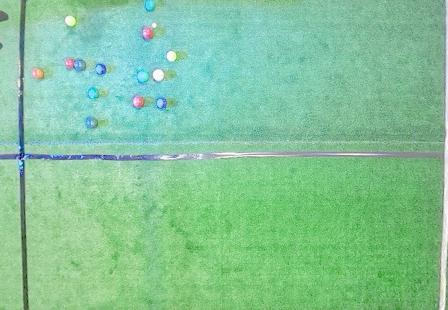blue: (95, 63, 106, 75), (156, 98, 167, 109)
green: (85, 116, 98, 129), (137, 70, 149, 82), (74, 59, 86, 71), (89, 88, 99, 99), (144, 1, 156, 10)
red: (153, 69, 165, 81), (133, 96, 145, 108), (142, 28, 154, 40), (33, 68, 44, 80), (65, 58, 74, 69)
vline: (1, 1, 31, 309), (436, 1, 447, 309)
white: (152, 23, 157, 28)
yellow: (65, 15, 76, 27), (166, 51, 177, 61)
